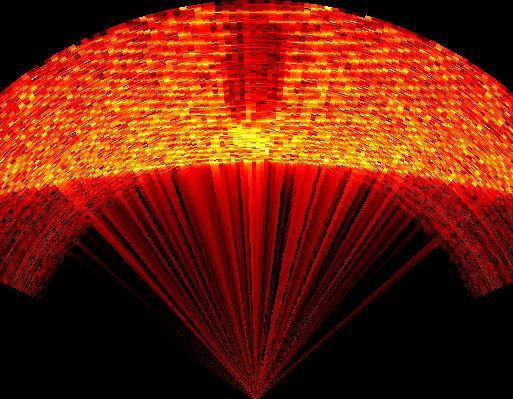box_crate: (210, 14, 302, 135)
